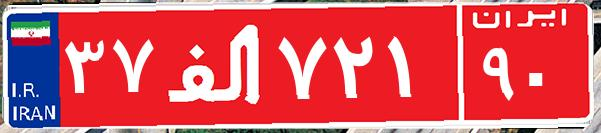0: (525, 38, 570, 115)
1: (385, 28, 445, 110)
2: (330, 28, 385, 110)
3: (57, 26, 110, 107)
7: (273, 28, 330, 110), (110, 28, 158, 105)
9: (475, 38, 525, 113)
الف: (158, 15, 273, 115)
